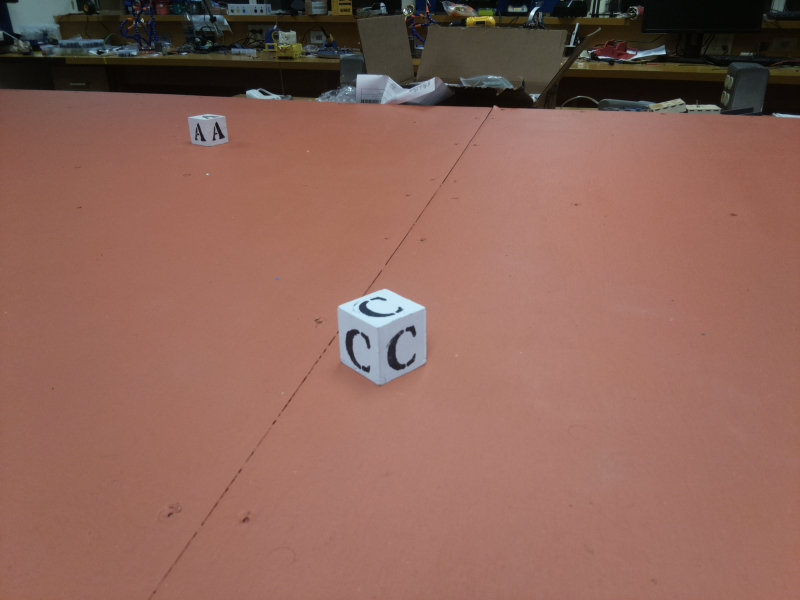blockA: (188, 113, 230, 147)
blockC: (337, 288, 432, 387)
